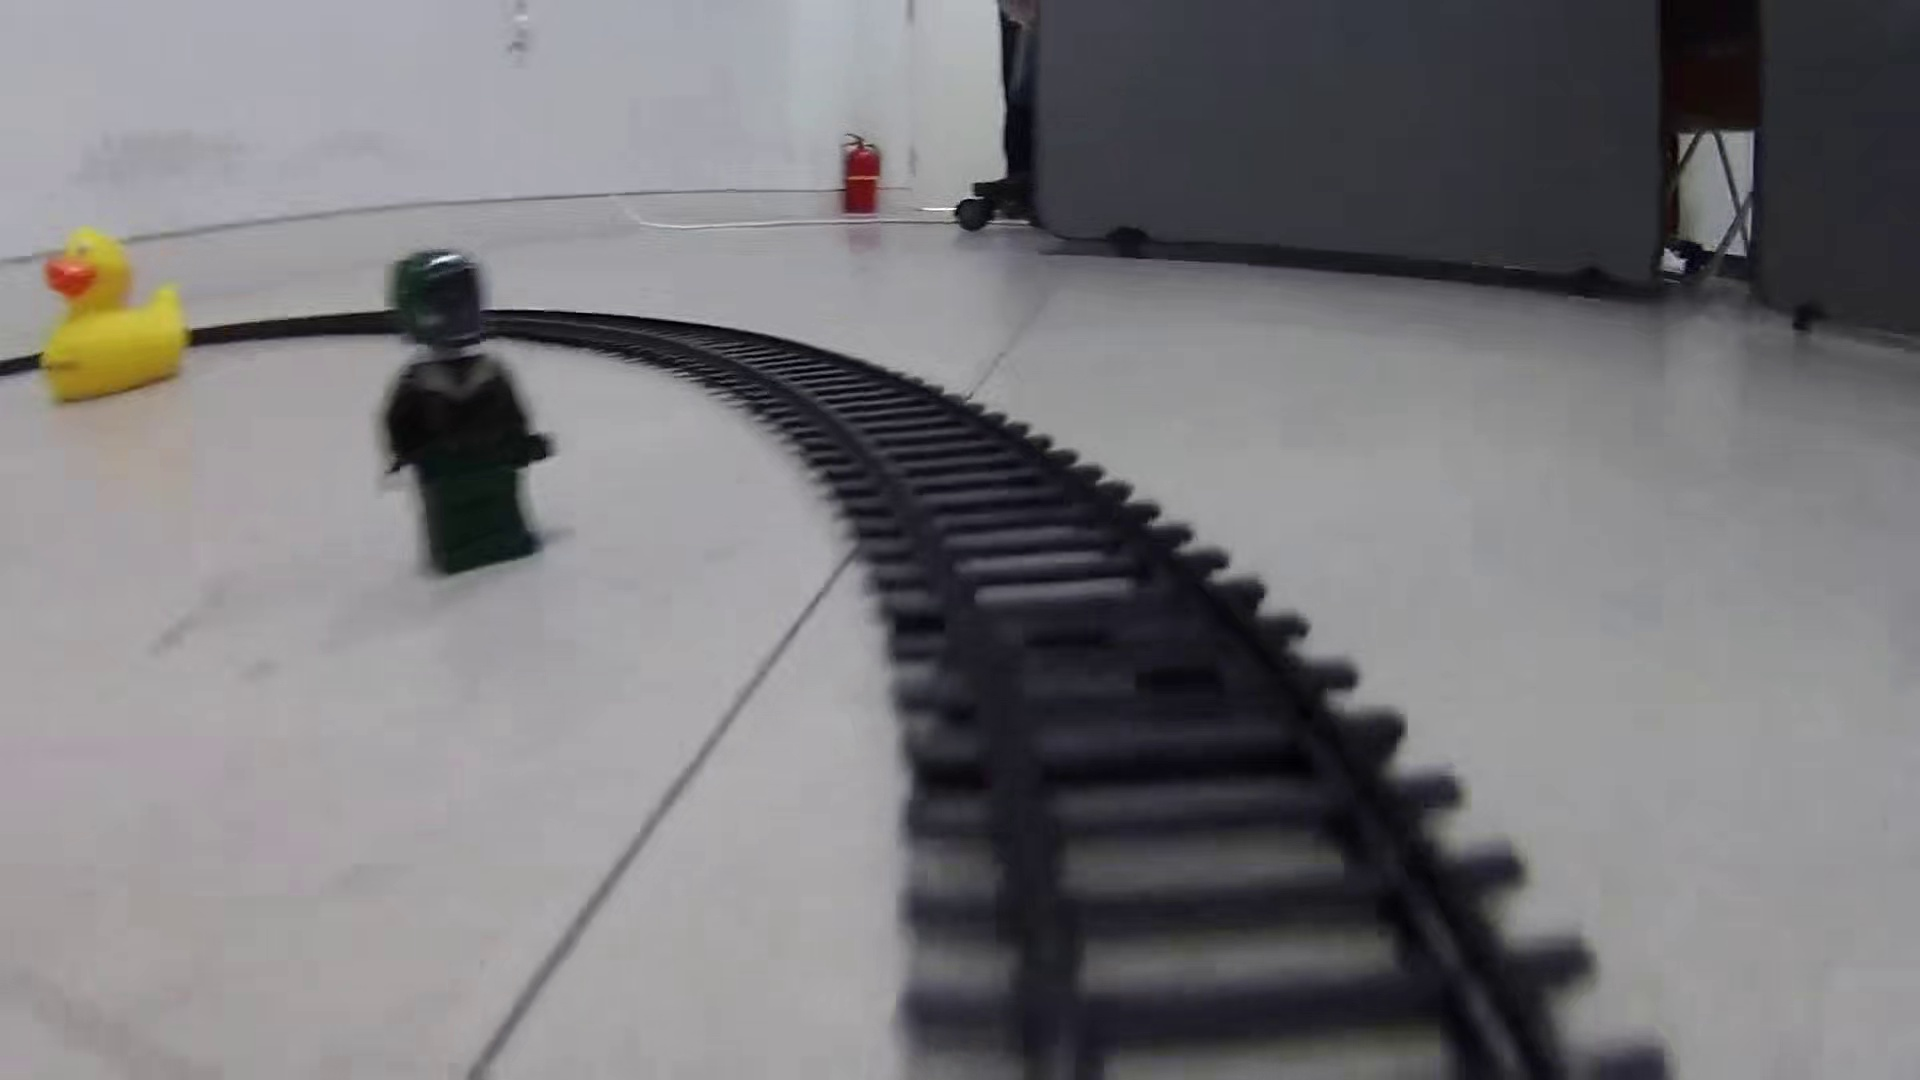people: (369, 249, 560, 581)
